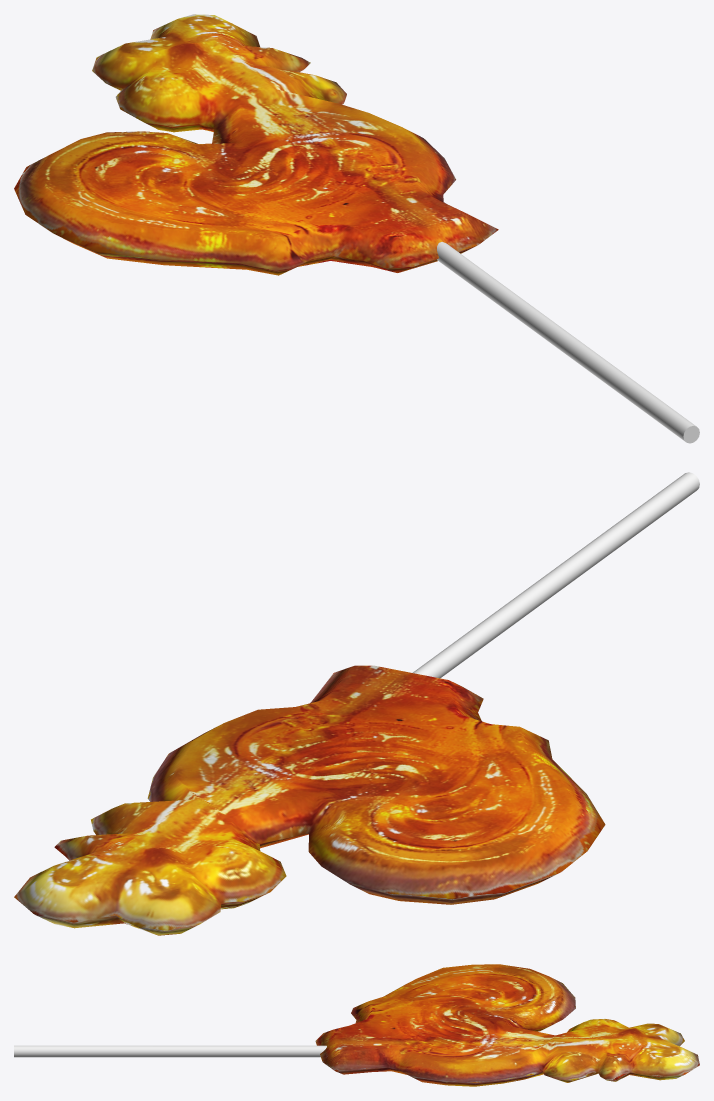
The model's file is sp_lollipop_1.FBX.
The picture shows the model from 3 angles, top to bottom: view 1: azimuth 30°, elevation 25°; view 2: azimuth 150°, elevation 25°; view 3: azimuth 270°, elevation 25°; orthographic projection. The views are drawn at different scales.
Visible parts, largest first — view 1: sp_lollipop_1; view 2: sp_lollipop_1; view 3: sp_lollipop_1.
Boxes of the visible parts, x1,y1,x2,y2 form: sp_lollipop_1: [14, 14, 699, 443]; sp_lollipop_1: [14, 472, 699, 935]; sp_lollipop_1: [14, 964, 699, 1086].
Size of the model in its own units: 2.69 by 6.8 by 0.4093.
